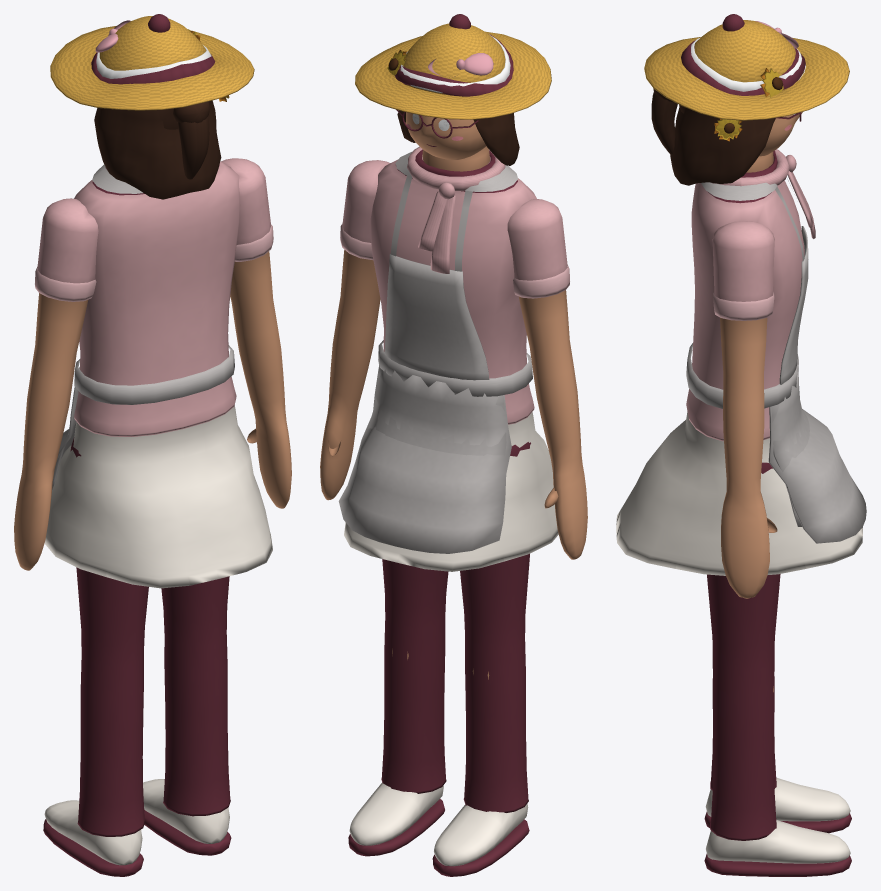
The model's file is player_wardrobe_male.glb.
3 views of the same model, side by side, from view 1: azimuth 30°, elevation 25°; view 2: azimuth 150°, elevation 25°; view 3: azimuth 270°, elevation 25° (orthographic). The views are drawn at different scales.
Visible parts, largest first — view 1: Body_Tee, Skirt_Cloth, LegL_Pants, LegR_Pants, ArmL_Skin, ArmR_Skin, Hat_Sun_Brim, Hair_Wavy_Back, ArmL_Sleeve, Hat_Sun_Crown, Apron_Band, LegL_Shoe (+12 smaller); view 2: Apron_LapSkirt, Body_Tee, LegL_Pants, LegR_Pants, ArmL_Skin, Apron_Bib, Skirt_Cloth, ArmR_Skin, Hat_Sun_Brim, ArmL_Sleeve, Hat_Sun_Crown, Acc_Scarf (+17 smaller); view 3: Skirt_Cloth, LegR_Pants, Body_Tee, ArmR_Skin, Apron_LapSkirt, Hat_Sun_Brim, ArmR_Sleeve, Hat_Sun_Crown, LegR_Shoe, Hair_Wavy_SideR, Hair_Wavy_Back, LegL_Shoe (+12 smaller).
Part boxes in pixels (bbox=[...]): Body_Tee: bbox=[74, 162, 240, 436]; Skirt_Cloth: bbox=[44, 406, 272, 588]; LegL_Pants: bbox=[70, 437, 148, 836]; LegR_Pants: bbox=[161, 576, 230, 816]; ArmL_Skin: bbox=[14, 293, 88, 570]; ArmR_Skin: bbox=[230, 251, 291, 508]; Hat_Sun_Brim: bbox=[50, 26, 254, 110]; Hair_Wavy_Back: bbox=[124, 100, 221, 199]; ArmL_Sleeve: bbox=[37, 198, 98, 283]; Hat_Sun_Crown: bbox=[99, 16, 206, 70]; Apron_Band: bbox=[74, 345, 234, 404]; LegL_Shoe: bbox=[44, 800, 142, 865]; Apron_LapSkirt: bbox=[338, 365, 511, 553]; Body_Tee: bbox=[370, 155, 536, 424]; LegL_Pants: bbox=[460, 442, 530, 812]; LegR_Pants: bbox=[381, 559, 448, 793]; ArmL_Skin: bbox=[518, 290, 587, 559]; Apron_Bib: bbox=[384, 254, 489, 380]; Skirt_Cloth: bbox=[344, 412, 558, 571]; ArmR_Skin: bbox=[320, 250, 380, 500]; Hat_Sun_Brim: bbox=[355, 31, 551, 119]; ArmL_Sleeve: bbox=[507, 199, 567, 280]; Hat_Sun_Crown: bbox=[403, 23, 505, 95]; Acc_Scarf: bbox=[407, 146, 505, 273]; Skirt_Cloth: bbox=[616, 411, 862, 575]; LegR_Pants: bbox=[707, 462, 780, 840]; Body_Tee: bbox=[686, 157, 804, 441]; ArmR_Skin: bbox=[720, 317, 777, 598]; Apron_LapSkirt: bbox=[768, 369, 866, 543]; Hat_Sun_Brim: bbox=[644, 37, 849, 120]; ArmR_Sleeve: bbox=[712, 221, 774, 301]; Hat_Sun_Crown: bbox=[694, 20, 804, 82]; LegR_Shoe: bbox=[706, 820, 850, 863]; Hair_Wavy_SideR: bbox=[708, 116, 766, 183]; Hair_Wavy_Back: bbox=[670, 107, 711, 185]; LegL_Shoe: bbox=[705, 777, 850, 821].
Size of the model in its own units: 0.5371 by 1.62 by 0.4414.
Materials: 26 (26 with a texture image).
